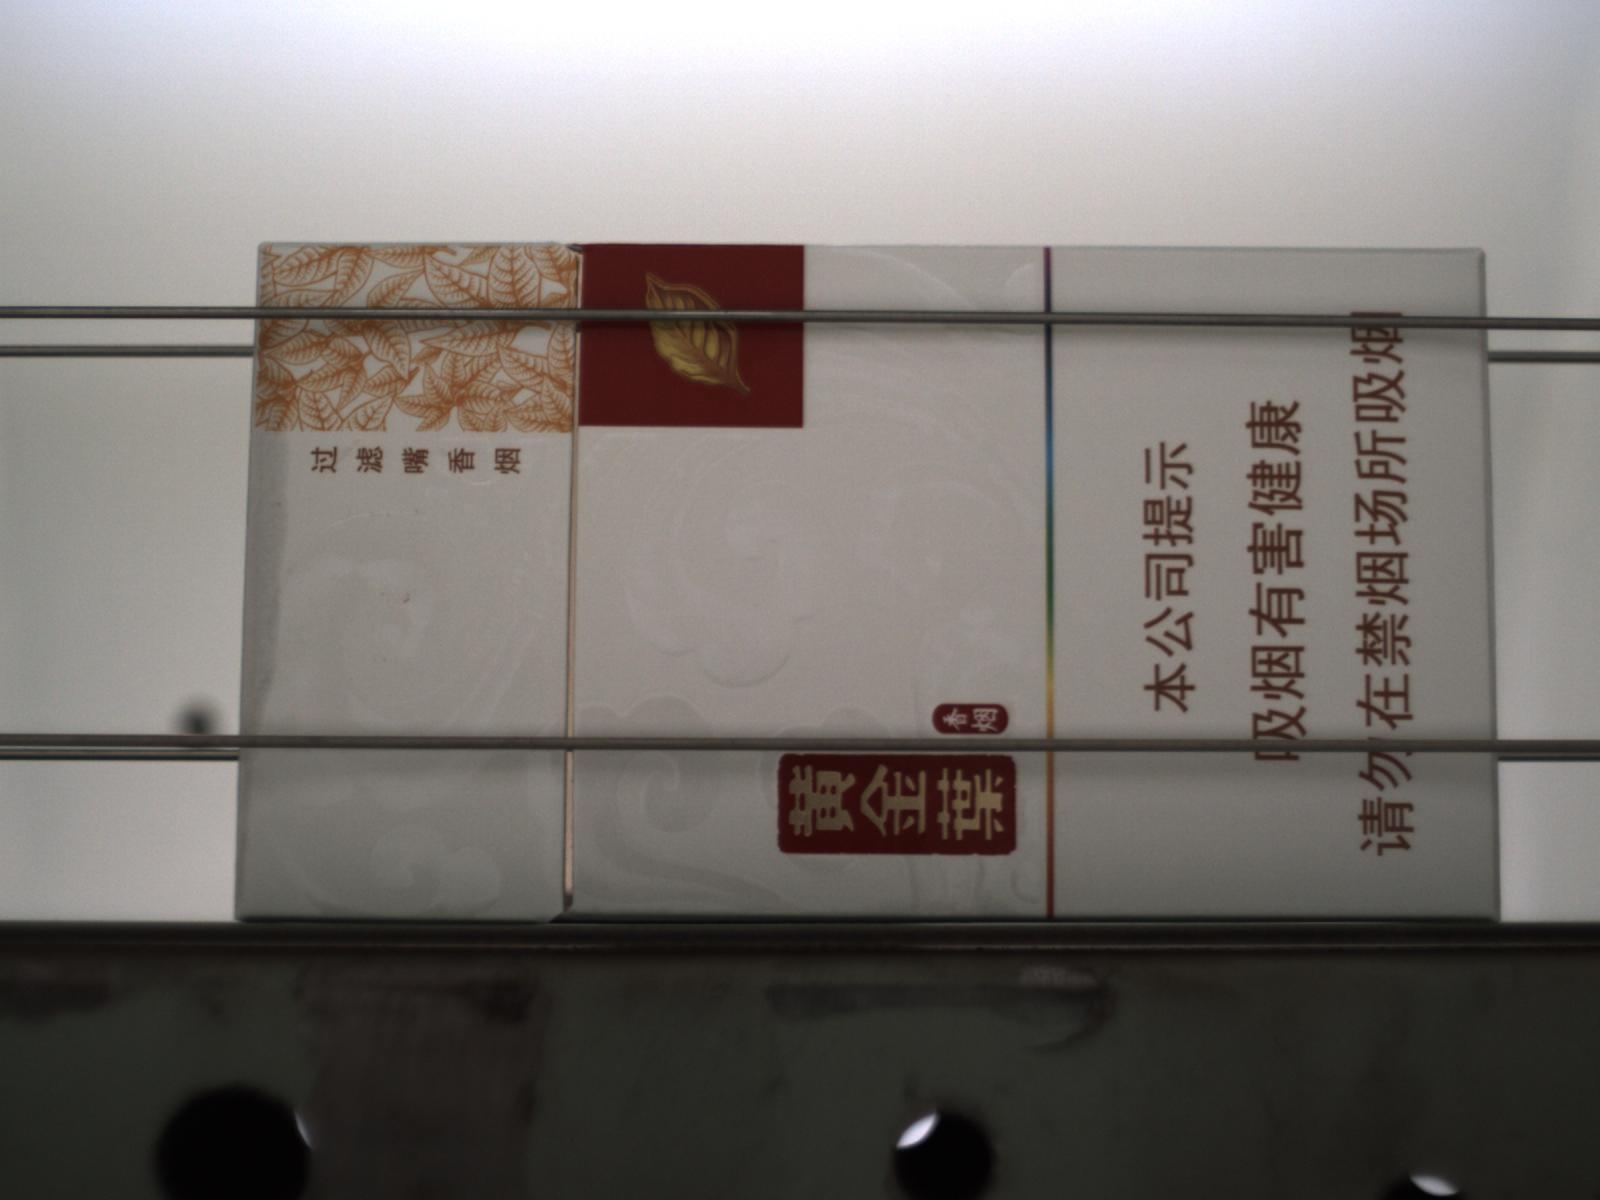areaOil: (233, 321, 294, 901)
dirtySpot: (401, 590, 414, 604), (377, 589, 386, 597)
